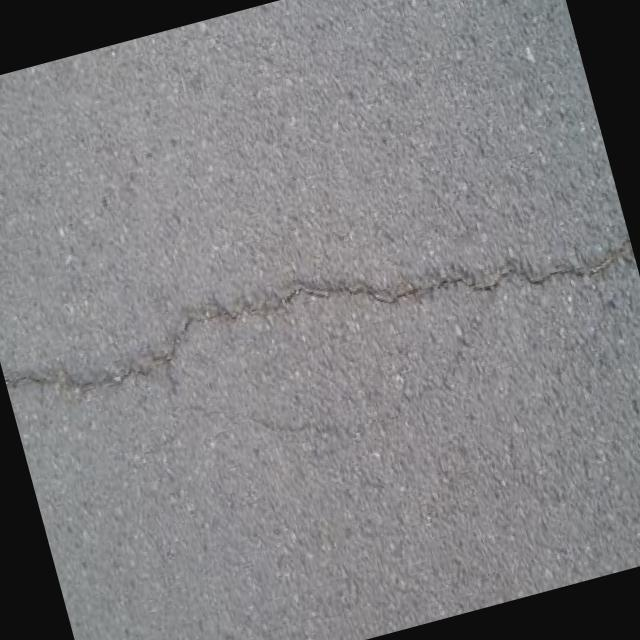Retak-Melintang: (5, 238, 628, 389)
